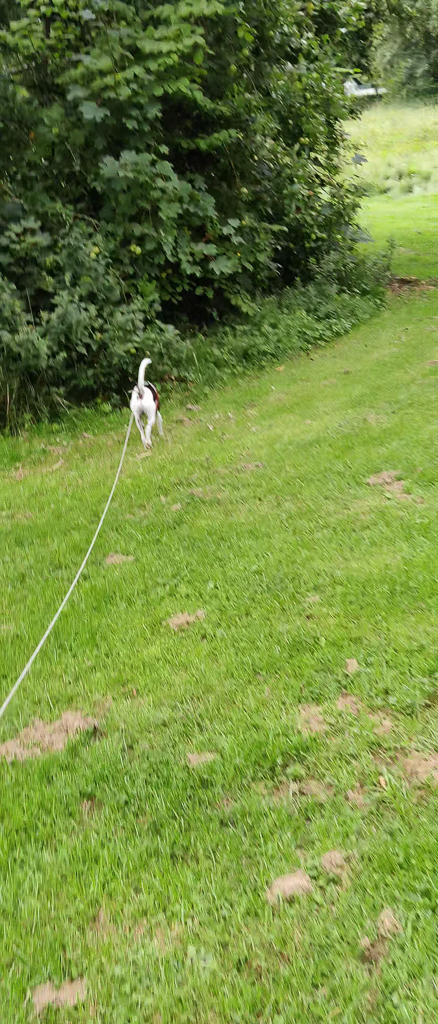Dog: (117, 351, 181, 456)
